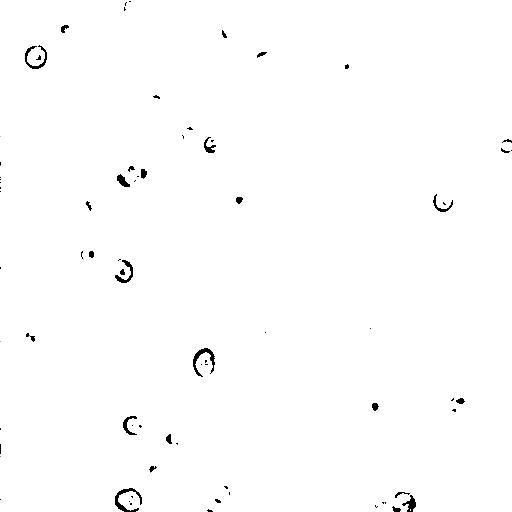micro-algae: (268, 8, 347, 85), (94, 352, 161, 420), (146, 129, 203, 184), (386, 181, 425, 220), (128, 162, 164, 200), (170, 118, 209, 153), (74, 186, 107, 227), (108, 160, 146, 195), (86, 457, 118, 488), (438, 390, 474, 416), (352, 313, 383, 343), (254, 312, 285, 342), (79, 378, 109, 409), (100, 116, 130, 145), (191, 346, 217, 379), (362, 491, 404, 511), (0, 125, 16, 175), (54, 18, 82, 46), (105, 256, 134, 283), (36, 289, 62, 318), (113, 488, 143, 512), (251, 49, 276, 76), (177, 376, 202, 403), (24, 43, 48, 70), (361, 395, 389, 418), (79, 240, 103, 266), (19, 327, 43, 353), (332, 53, 355, 79), (211, 483, 237, 506), (390, 490, 417, 512), (432, 189, 454, 215), (422, 162, 446, 185), (144, 434, 167, 458), (141, 460, 164, 483), (260, 102, 282, 125), (122, 414, 144, 436), (401, 0, 437, 12), (220, 20, 239, 42), (121, 0, 142, 19), (204, 134, 223, 154), (165, 429, 185, 446), (231, 193, 251, 207), (446, 78, 460, 95), (500, 138, 512, 154), (200, 507, 217, 511)
